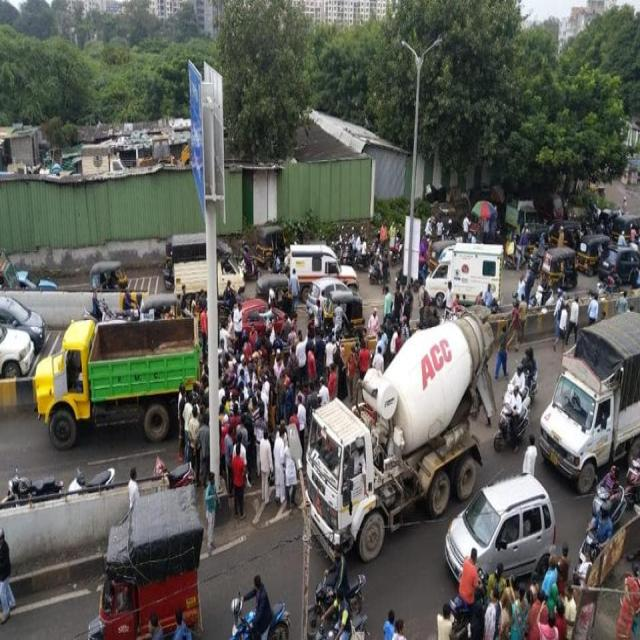car: (445, 475, 555, 578), (289, 243, 358, 298)
emergency: (425, 243, 502, 305)
motorcycle: (231, 576, 290, 639)
truck: (306, 311, 495, 562), (35, 318, 200, 448), (540, 315, 640, 494), (90, 486, 202, 639)
